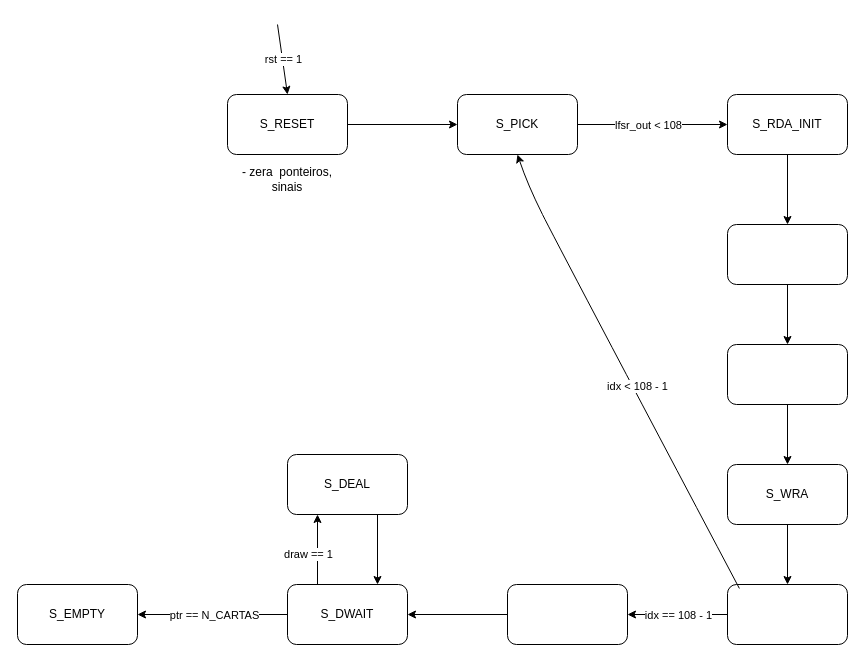
Some shapes in this 865 by 662 pixel diagram are drawn without their labels. The centre of each missing label's shape, as x and y in pixels:
S_RDA_CAP: point (787, 254)
S_RDB_CAP: point (787, 374)
S_READY: point (567, 614)
S_WRB: point (787, 614)
